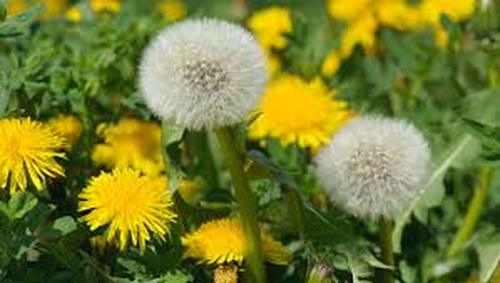dandelion: (77, 171, 186, 249), (1, 114, 71, 198)
